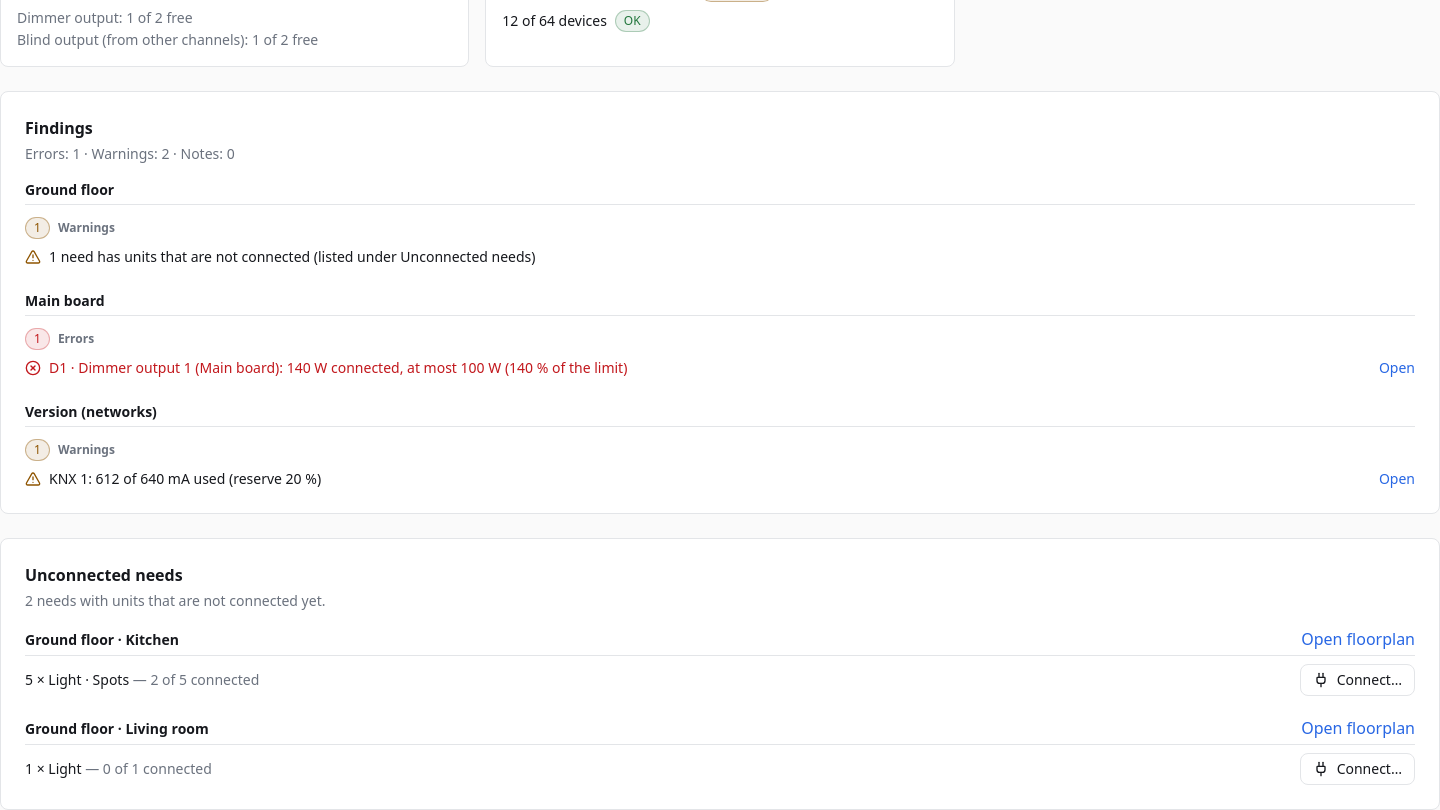
Test: ChecksTab › shows why no channel fits
The image size is (1440, 810).
(page scrolled)
Click the button with aria-label "Connect 1 × Light…": (1357, 769) [1300, 753, 1415, 785]
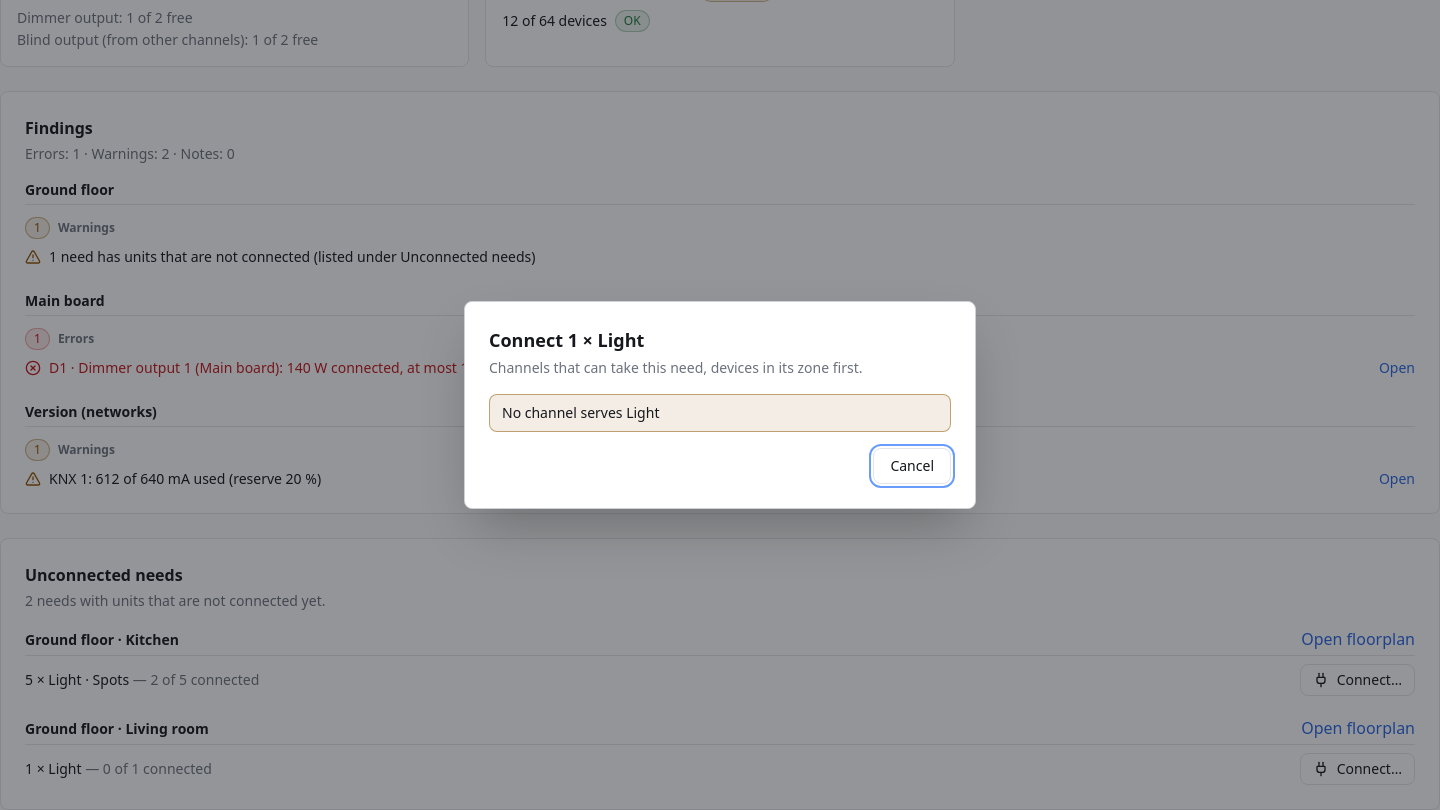
Expected: the text "No channel serves Light" is shown, [489, 394, 951, 432]
